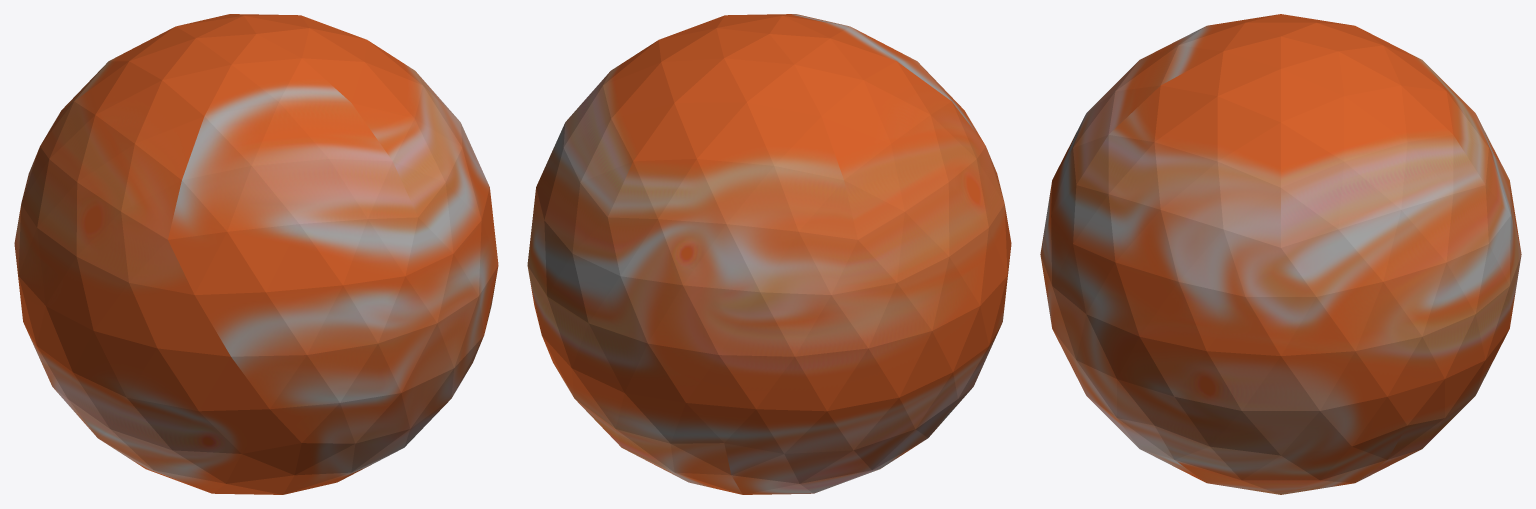
The model's file is lowpoly_jupter.glb.
The picture shows the model from 3 angles, left to right: view 1: azimuth 30°, elevation 25°; view 2: azimuth 150°, elevation 25°; view 3: azimuth 270°, elevation 25°; orthographic projection.
Visible parts, largest first — view 1: Icosphere; view 2: Icosphere; view 3: Icosphere.
Boxes of the visible parts, box(x1,y1,x2,y2) form: Icosphere: box(14, 14, 498, 494); Icosphere: box(527, 14, 1011, 494); Icosphere: box(1040, 14, 1521, 494).
Bounding box in the file's own units: 2 × 2 × 2.
1 material, 1 textured.
